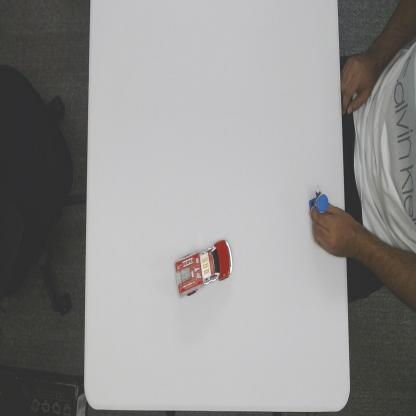Firetruck: (174, 239, 234, 299)
Hand: (308, 201, 342, 257)
